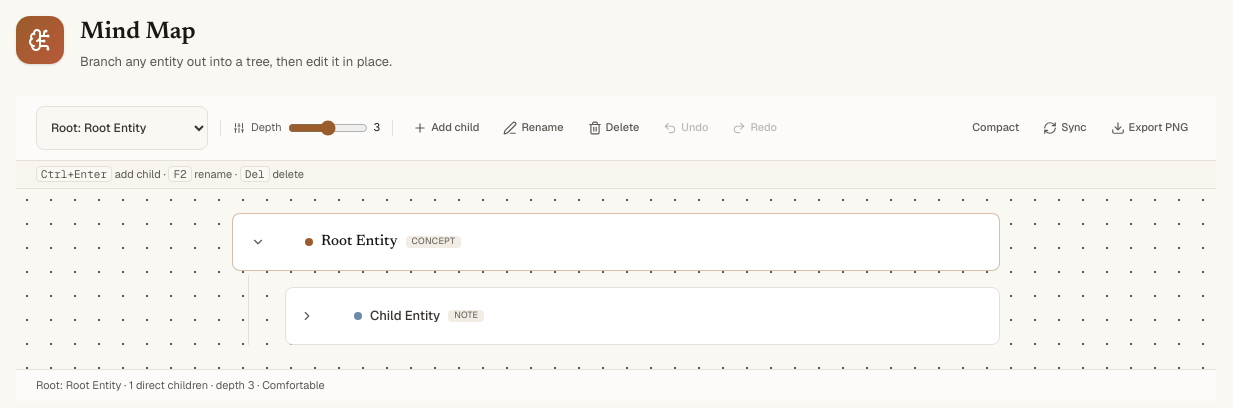
Test case: MindMapView branch coverage › Compact density toggle (D4.2) › applies the compact density to node padding, indent, and type when toggled on
The width and height of the screenshot is (1233, 408).
Click the button with test id "mindmap-compact-toggle": click(996, 128) [964,106,1027,150]
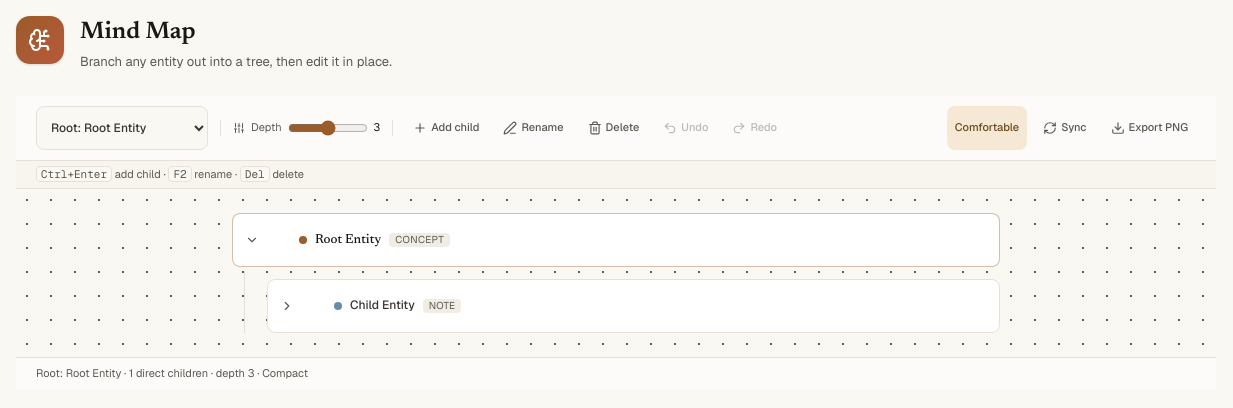
Check: the text "Root: Root Entity · 1 direct children · depth 3 · Compact" is shown, box [16,357,1216,389]
